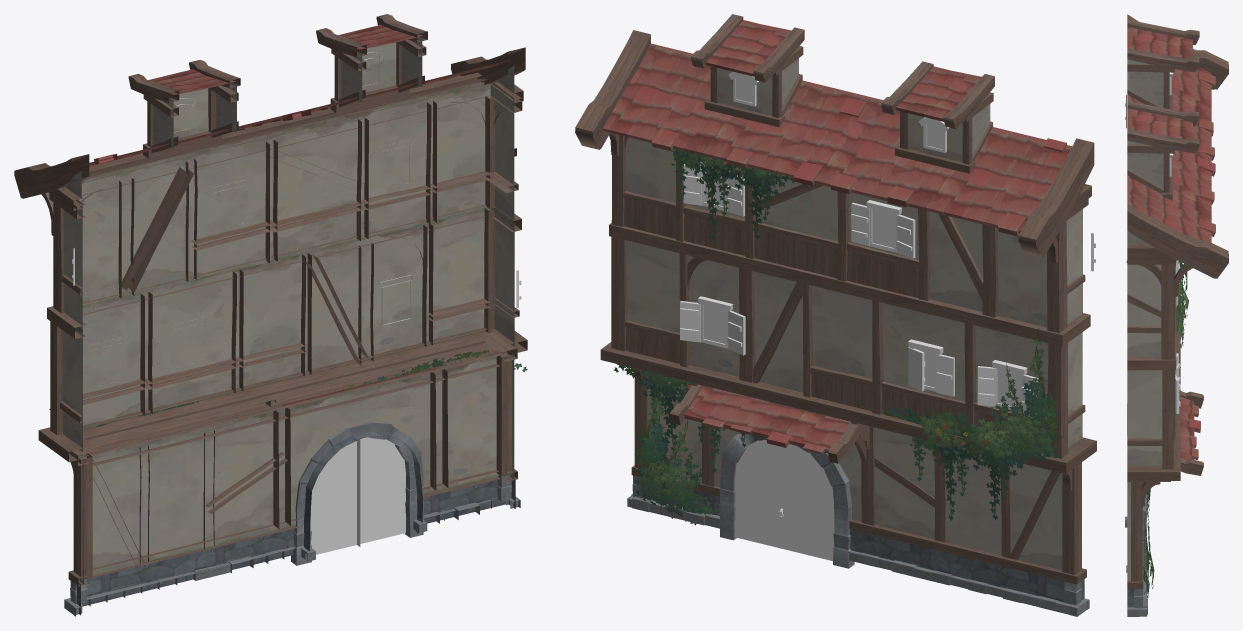
Rendered from HousePlane.fbx.
3 renders of one model, left to right at view 1: azimuth 30°, elevation 25°; view 2: azimuth 150°, elevation 25°; view 3: azimuth 270°, elevation 25°, orthographic. The views are drawn at different scales.
Visible parts, largest first — view 1: Mondstadt_House_Type04; view 2: Mondstadt_House_Type04; view 3: Mondstadt_House_Type04.
Boxes of the visible parts, box(x1,y1,x2,y2) form: Mondstadt_House_Type04: box(14, 14, 527, 616); Mondstadt_House_Type04: box(575, 14, 1096, 616); Mondstadt_House_Type04: box(1125, 14, 1228, 616).
Bounding box in the file's own units: 1697 × 1709 × 351.
